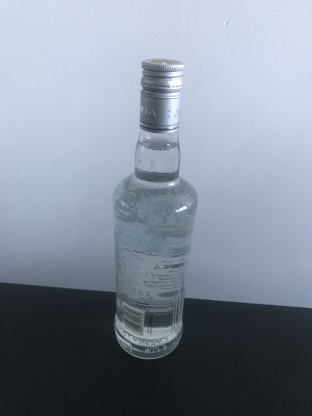nakretka: (138, 57, 186, 134)
